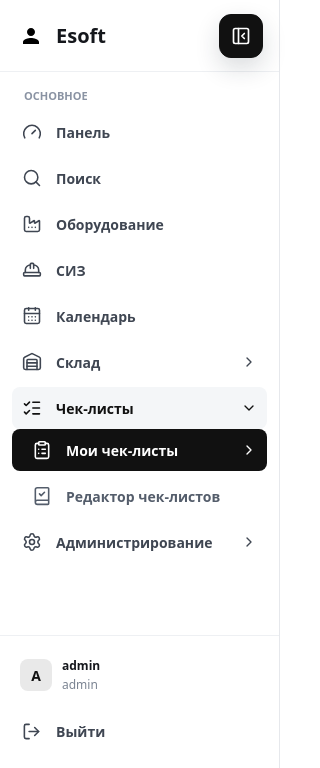
it: Sidebar › opens the active group, allows manual collapse, and opens a newly active group
Click the button "Чек-листы" at (140, 408), box [12,387,267,429]
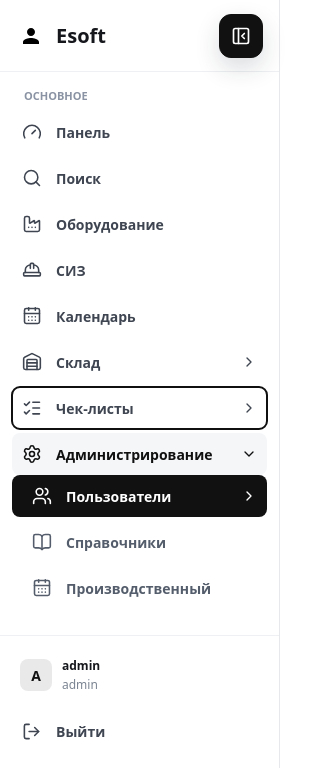
Check: the button "Чек-листы" is collapsed, box [12,387,267,429]
Check: the button "Администрирование" is expanded, box [12,433,267,475]
